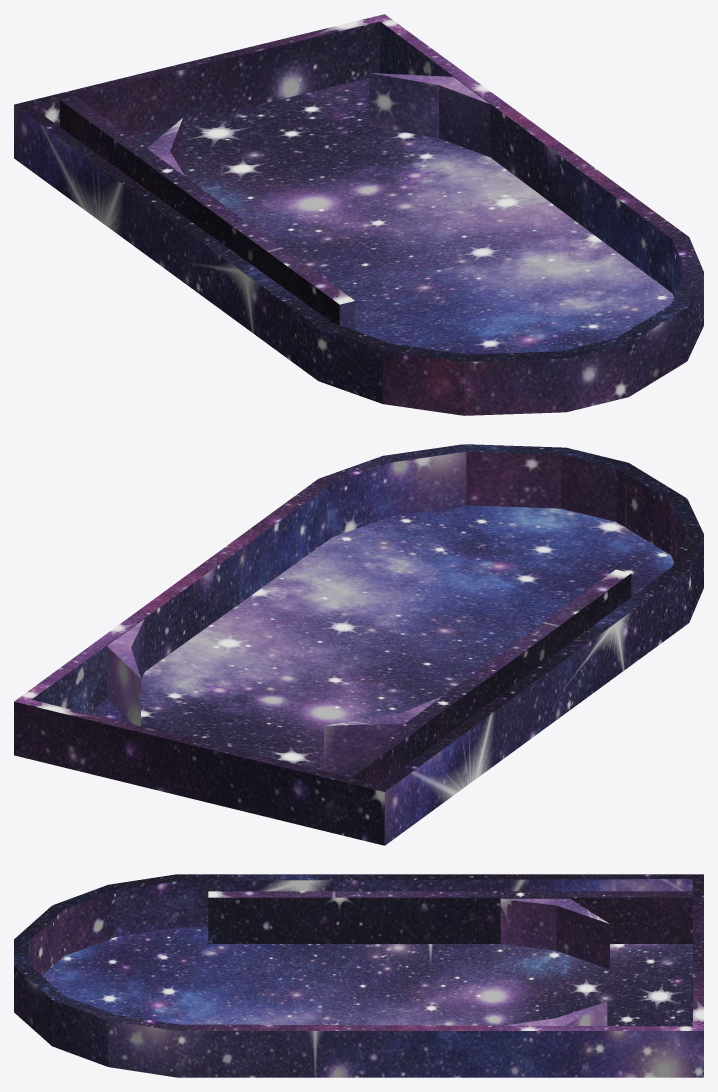
The model's file is pinballTable12.obj.
3 views of the same model, one above another, from view 1: azimuth 30°, elevation 25°; view 2: azimuth 150°, elevation 25°; view 3: azimuth 270°, elevation 25° (orthographic). The views are drawn at different scales.
Visible parts, largest first — view 1: Cube.002; view 2: Cube.002; view 3: Cube.002.
Part boxes in pixels (x1,y1,x2,y2): Cube.002: (14, 14, 703, 415); Cube.002: (14, 444, 703, 845); Cube.002: (14, 874, 703, 1077).
Bounding box in the file's own units: 14.32 × 2 × 26.66.
1 material, 1 textured.
